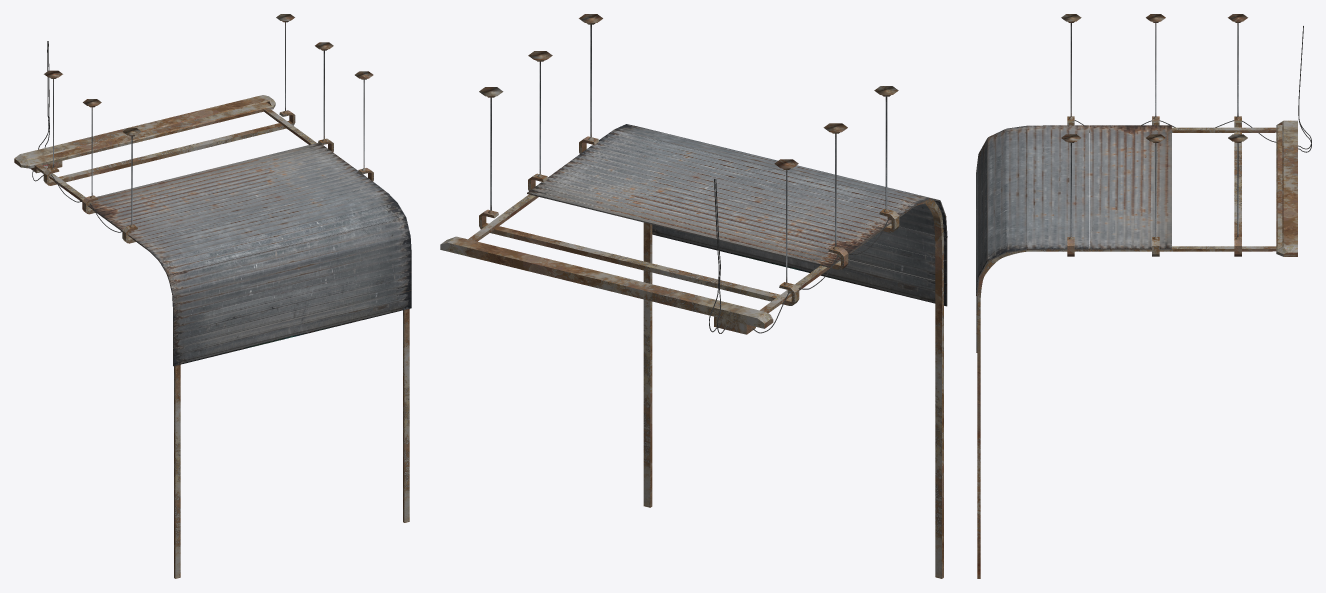
File: garagedoor.fbx
The picture shows the model from 3 angles, left to right: view 1: azimuth 30°, elevation 25°; view 2: azimuth 150°, elevation 25°; view 3: azimuth 270°, elevation 25°; orthographic projection. The views are drawn at different scales.
Visible parts, largest first — view 1: Frame_0, DoorSection10_10, DoorSection11_11, DoorSection14_14, DoorSection13_13, DoorSection12_12, DoorSection9_9, DoorSection8_8, DoorSection7_7, DoorSection6_6, DoorSection2_2, DoorSection3_3 (+3 smaller); view 2: Frame_0, DoorSection1_1, DoorSection14_14, DoorSection4_4, DoorSection3_3, DoorSection5_5, DoorSection7_7, DoorSection2_2, DoorSection6_6, DoorSection8_8, DoorSection13_13, DoorSection12_12 (+1 smaller); view 3: Frame_0, DoorSection2_2, DoorSection6_6, DoorSection3_3, DoorSection4_4, DoorSection7_7, DoorSection8_8, DoorSection1_1, DoorSection9_9, DoorSection5_5, DoorSection10_10.
Part boxes in pixels (left/top/right/bottom): Frame_0: left=14, top=14, right=409, bottom=578; DoorSection10_10: left=168, top=217, right=410, bottom=294; DoorSection11_11: left=172, top=236, right=411, bottom=312; DoorSection14_14: left=173, top=290, right=411, bottom=366; DoorSection13_13: left=173, top=272, right=411, bottom=347; DoorSection12_12: left=173, top=255, right=411, bottom=330; DoorSection9_9: left=159, top=203, right=405, bottom=275; DoorSection8_8: left=149, top=193, right=397, bottom=260; DoorSection7_7: left=140, top=185, right=387, bottom=251; DoorSection6_6: left=130, top=178, right=377, bottom=243; DoorSection2_2: left=91, top=149, right=338, bottom=215; DoorSection3_3: left=101, top=157, right=348, bottom=222; Frame_0: left=440, top=14, right=943, bottom=578; DoorSection1_1: left=527, top=183, right=840, bottom=267; DoorSection14_14: left=652, top=224, right=947, bottom=306; DoorSection4_4: left=564, top=156, right=879, bottom=240; DoorSection3_3: left=552, top=165, right=867, bottom=249; DoorSection5_5: left=577, top=147, right=891, bottom=231; DoorSection7_7: left=602, top=129, right=916, bottom=212; DoorSection2_2: left=540, top=174, right=854, bottom=255; DoorSection6_6: left=589, top=138, right=904, bottom=220; DoorSection8_8: left=614, top=124, right=929, bottom=204; DoorSection13_13: left=848, top=241, right=947, bottom=283; DoorSection12_12: left=867, top=226, right=947, bottom=260; Frame_0: left=977, top=14, right=1311, bottom=578; DoorSection2_2: left=1130, top=125, right=1151, bottom=249; DoorSection6_6: left=1047, top=125, right=1068, bottom=249; DoorSection3_3: left=1110, top=125, right=1130, bottom=249; DoorSection4_4: left=1089, top=125, right=1109, bottom=249; DoorSection7_7: left=1027, top=125, right=1047, bottom=249; DoorSection8_8: left=1006, top=125, right=1026, bottom=252; DoorSection1_1: left=1151, top=125, right=1171, bottom=249; DoorSection9_9: left=988, top=129, right=1006, bottom=261; DoorSection5_5: left=1068, top=125, right=1088, bottom=249; DoorSection10_10: left=978, top=138, right=988, bottom=277.
Bounding box in the file's own units: 436 × 686 × 469.
1 material, 1 textured.
